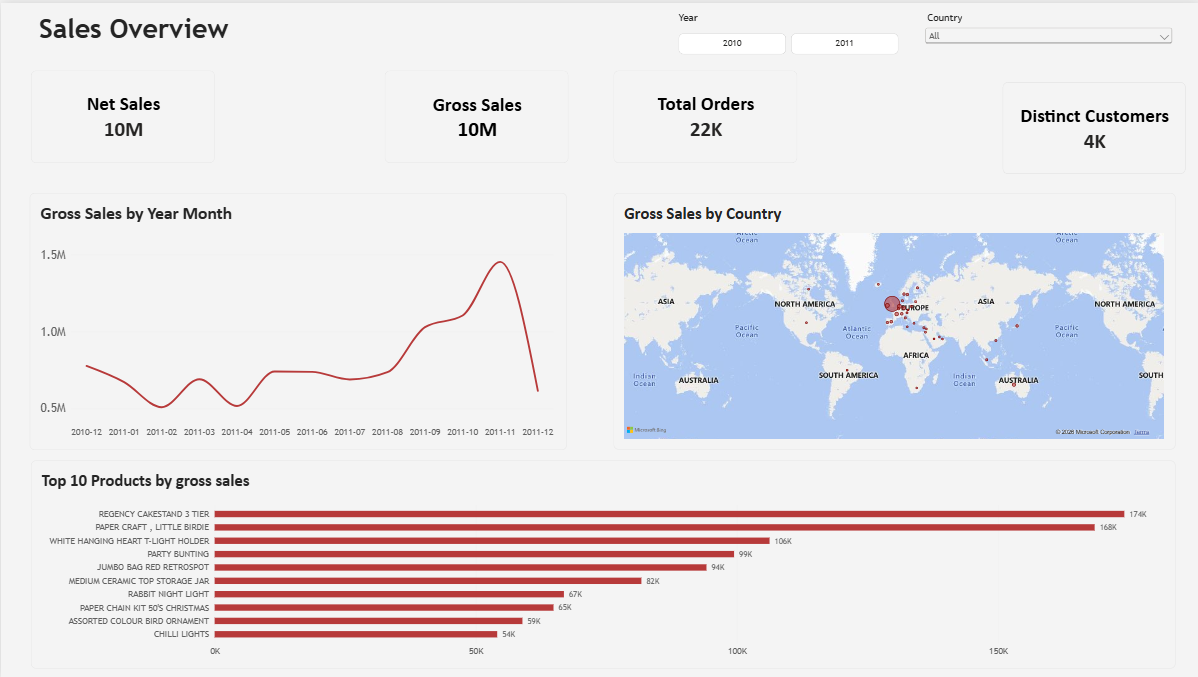

Layout of this report page (visuals, bound fields, positions):
{"tool":"powerbi","page":{"name":"Sales Overview","canvas":[1920,1080],"ordinal":0},"visuals":[{"type":"cardVisual","fields":{"Data":["Fact_Sales.Total Orders"]},"box":[980.8,108.6,294,148],"z":0},{"type":"cardVisual","title":"Net Sales","fields":{"Data":["Fact_Sales.Net Sales"]},"box":[613.5,108.6,294,148],"z":1000},{"type":"cardVisual","fields":{"Data":["Fact_Sales.Distinct Customers"]},"box":[1601.5,126.7,294,148],"z":2000},{"type":"lineChart","title":"Gross Sales by Year Month","fields":{"Category":["Dim_Date.YearMonth"],"Y":["Fact_Sales.Net Sales"]},"box":[46.3,303.7,859.3,411.1],"z":3000},{"type":"barChart","title":"Top 10 Products by gross sales","fields":{"Category":["Fact_Sales.Description"],"Y":["Fact_Sales.Net Sales"]},"box":[48.9,732.9,1831.4,333],"z":4000},{"type":"map","fields":{"Category":["Fact_Sales.Country"],"Size":["Fact_Sales.Net Sales"]},"box":[980.8,304,899.4,410.8],"z":5000},{"type":"textbox","box":[48.9,16.3,599,68.8],"z":6000},{"type":"advancedSlicerVisual","fields":{"Values":["Dim_Date.Year"]},"box":[1083.3,14.8,353.7,68.5],"z":7000},{"type":"slicer","fields":{"Values":["Fact_Sales.Country"]},"box":[1474.9,14.5,405.4,68.8],"z":8000},{"type":"cardVisual","fields":{"Data":["Fact_Sales.Total Sales"]},"box":[47.1,108.6,294,148],"z":9000}]}

Visuals, with their boxes in screenshot pixels (x1, y1, x2, y2), scaled from the page's 1920x1080 canvas onto the 1198x677 screenshot:
cardVisual - Fact_Sales.Total Orders: bbox=[612, 68, 795, 161]
"Net Sales" cardVisual: bbox=[383, 68, 566, 161]
cardVisual - Fact_Sales.Distinct Customers: bbox=[999, 79, 1183, 172]
"Gross Sales by Year Month" lineChart: bbox=[29, 190, 565, 448]
"Top 10 Products by gross sales" barChart: bbox=[31, 459, 1173, 668]
map - Fact_Sales.Country x Fact_Sales.Net Sales: bbox=[612, 191, 1173, 448]
textbox: bbox=[31, 10, 404, 53]
advancedSlicerVisual - Dim_Date.Year: bbox=[676, 9, 897, 52]
slicer - Fact_Sales.Country: bbox=[920, 9, 1173, 52]
cardVisual - Fact_Sales.Total Sales: bbox=[29, 68, 213, 161]
